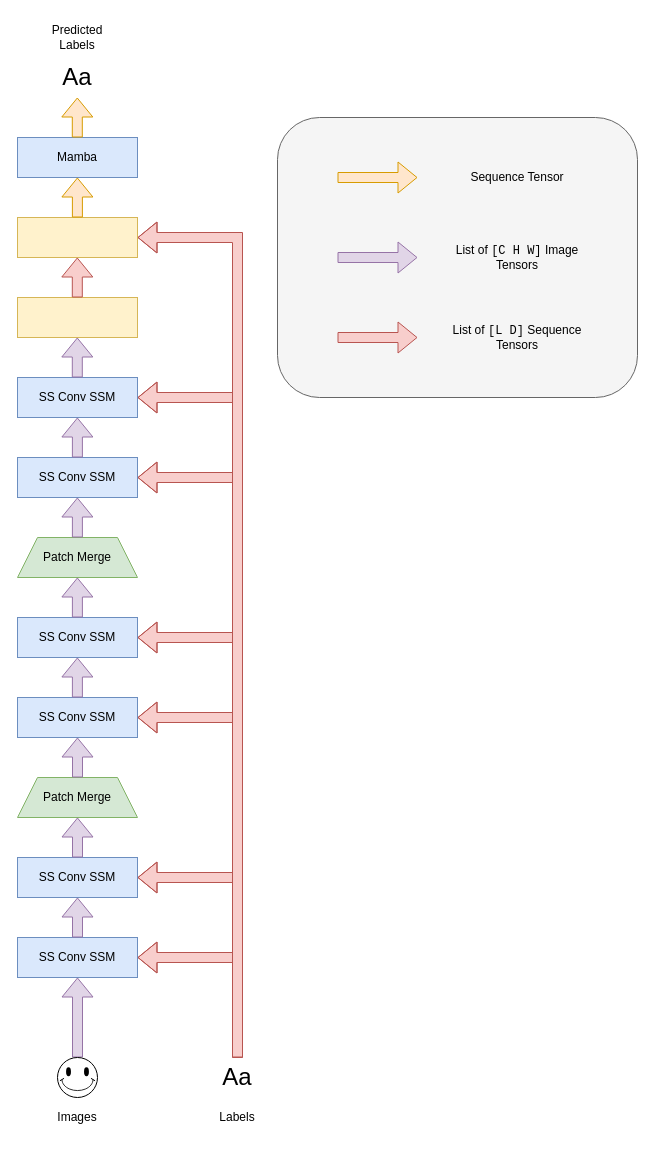
Image size: 655x1154. Some labels were removed from this diagram. The centre of each missing label's shape, as x and y in pixels:
"Column-Major Flatten" goes at (77,317).
"In-Context Embedding" goes at (77,237).
